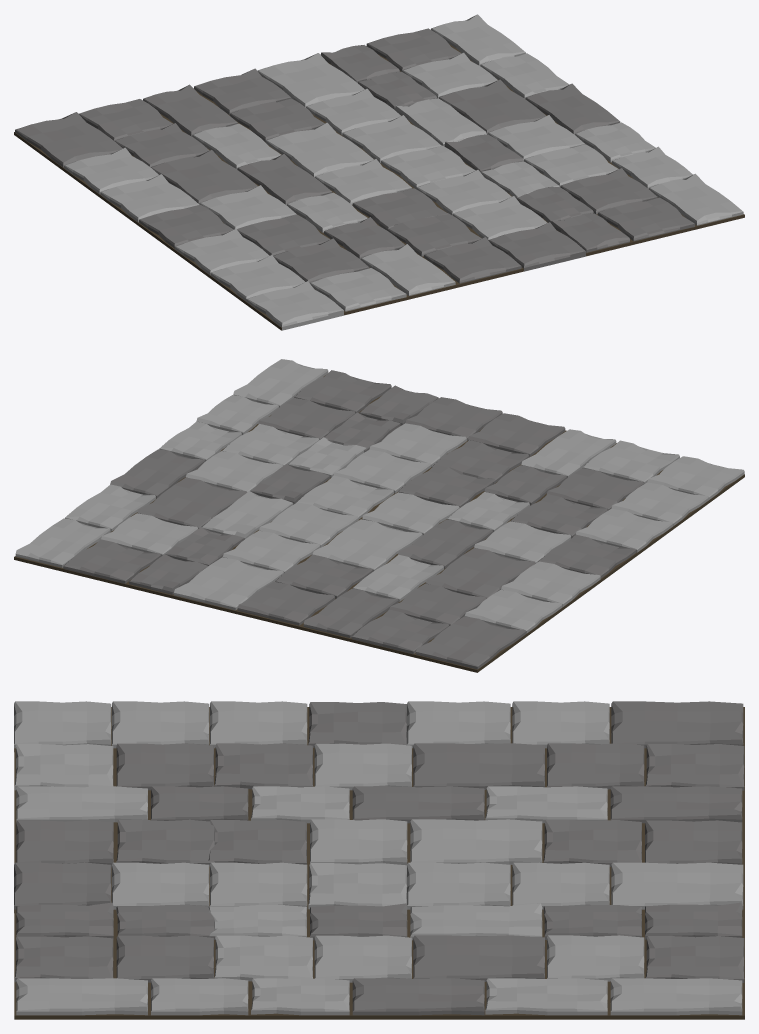
The model's file is FBX_ENV_RUIN_FloorMain.fbx.
3 views of the same model, one above another, from view 1: azimuth 30°, elevation 25°; view 2: azimuth 150°, elevation 25°; view 3: azimuth 270°, elevation 25° (orthographic). The views are drawn at different scales.
Parts seen in each view (by area): view 1: Plane.001; view 2: Plane.001; view 3: Plane.001.
Part boxes in pixels (bbox=[...]): Plane.001: bbox=[14, 14, 744, 330]; Plane.001: bbox=[14, 359, 744, 672]; Plane.001: bbox=[14, 701, 744, 1019].
Size of the model in its own units: 1500 by 27.62 by 1501.
